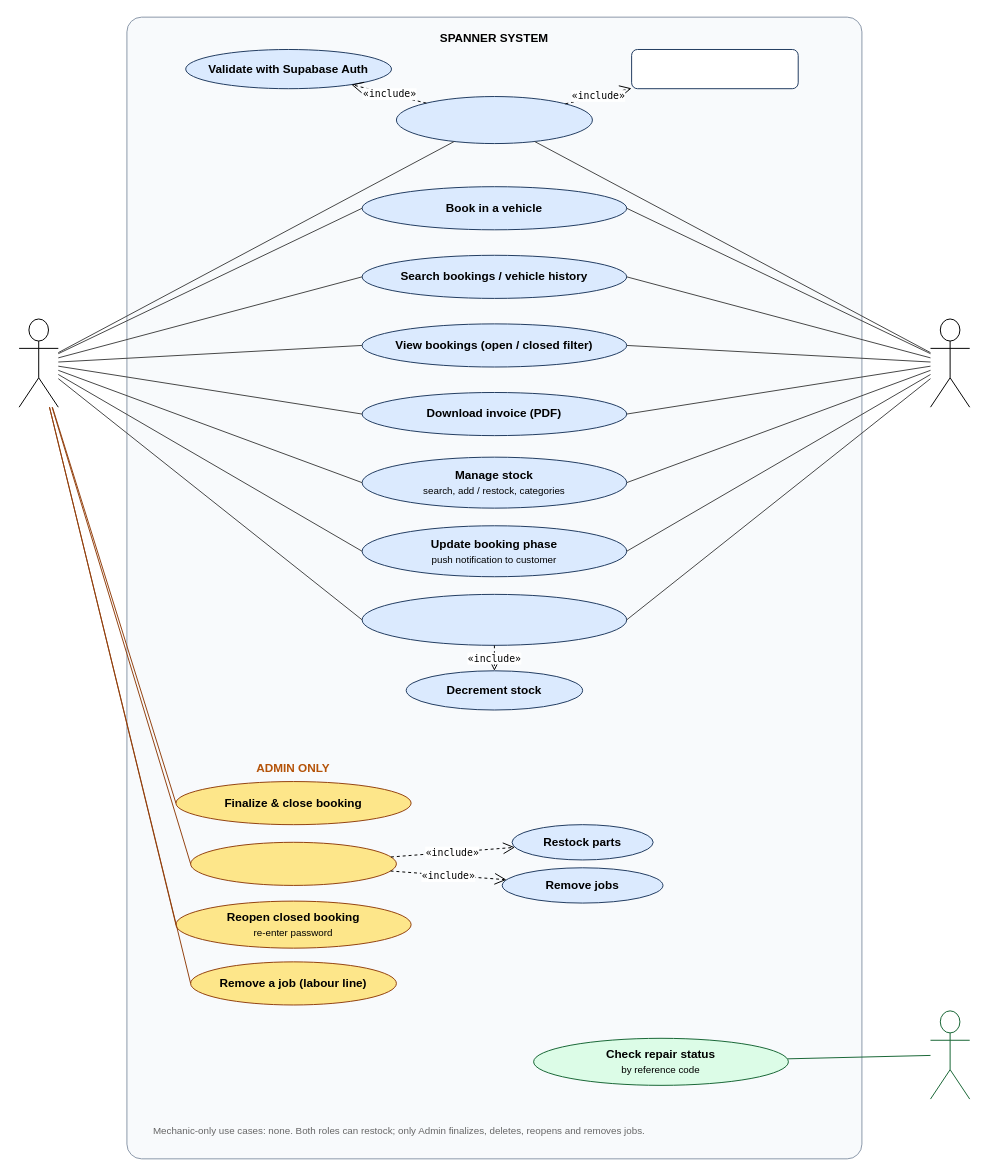
The diagram is 999 pixels wide and 1176 high, and some of its shapes have lost their labels. Here are the shapes that lost their labels. From the top down, the centre of each, then its label:
At point (714, 69): "Dashboard (landing only, not a hub)".
At point (493, 120): "Login".
At point (38, 362): "Admin".
At point (950, 362): "Mechanic".
At point (494, 619): "Update booking add labour / add part".
At point (293, 863): "Delete booking".
At point (950, 1054): "Customer no login".
